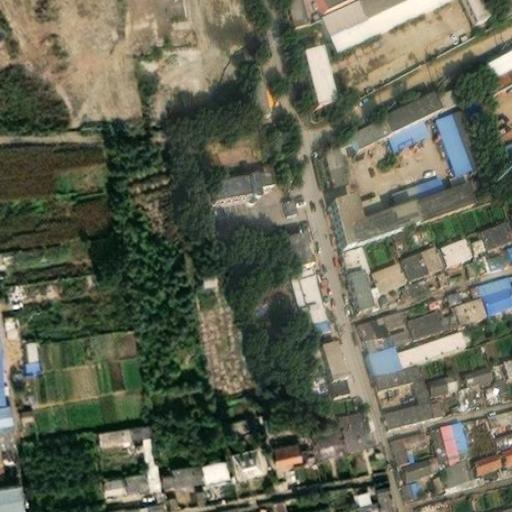building: (323, 0, 448, 45), (327, 185, 418, 244), (321, 107, 392, 182), (374, 358, 435, 423), (436, 107, 475, 182), (410, 177, 476, 221), (395, 324, 468, 363), (383, 82, 443, 126), (289, 267, 330, 330), (429, 413, 471, 462), (208, 169, 274, 200), (308, 36, 339, 95), (388, 170, 445, 200), (400, 241, 443, 277), (406, 304, 455, 333), (387, 425, 426, 461), (330, 403, 369, 436), (365, 337, 401, 372), (357, 309, 390, 346), (345, 261, 373, 304), (221, 426, 256, 460), (448, 289, 485, 321), (389, 112, 427, 143), (372, 256, 409, 287), (400, 447, 442, 474), (278, 489, 327, 512), (478, 212, 512, 245), (299, 410, 335, 441), (321, 331, 347, 373), (286, 225, 314, 264), (479, 280, 512, 311), (457, 359, 495, 385), (367, 471, 392, 510), (470, 270, 512, 291), (151, 446, 193, 467), (383, 304, 411, 335), (441, 231, 472, 259), (344, 474, 372, 505), (85, 408, 121, 432), (487, 42, 512, 72), (264, 424, 294, 449), (473, 444, 504, 468), (424, 368, 451, 394), (484, 376, 511, 402), (482, 241, 512, 264), (260, 480, 280, 512), (259, 403, 296, 419), (185, 255, 210, 278), (444, 454, 470, 476), (94, 459, 119, 481), (487, 402, 512, 423), (101, 489, 135, 504), (196, 441, 220, 462), (465, 0, 491, 19), (465, 251, 487, 271), (402, 475, 422, 496), (135, 444, 152, 468), (467, 230, 487, 250), (118, 453, 137, 474), (476, 501, 512, 512), (236, 498, 264, 512), (445, 365, 462, 388), (330, 370, 350, 389), (502, 352, 512, 388), (428, 469, 446, 488), (134, 418, 146, 445), (496, 423, 512, 443), (120, 406, 144, 419), (445, 282, 464, 298), (283, 191, 298, 211), (430, 391, 446, 409), (10, 388, 28, 404), (499, 439, 512, 461), (134, 487, 157, 499), (16, 321, 29, 341), (490, 355, 506, 371), (187, 473, 199, 490), (16, 340, 30, 353), (373, 506, 397, 512), (509, 240, 512, 252)
